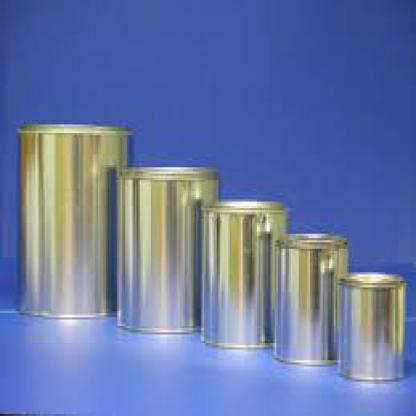METAL: (14, 122, 127, 318), (114, 165, 215, 332), (198, 197, 284, 348), (268, 232, 346, 362), (336, 272, 403, 382)
